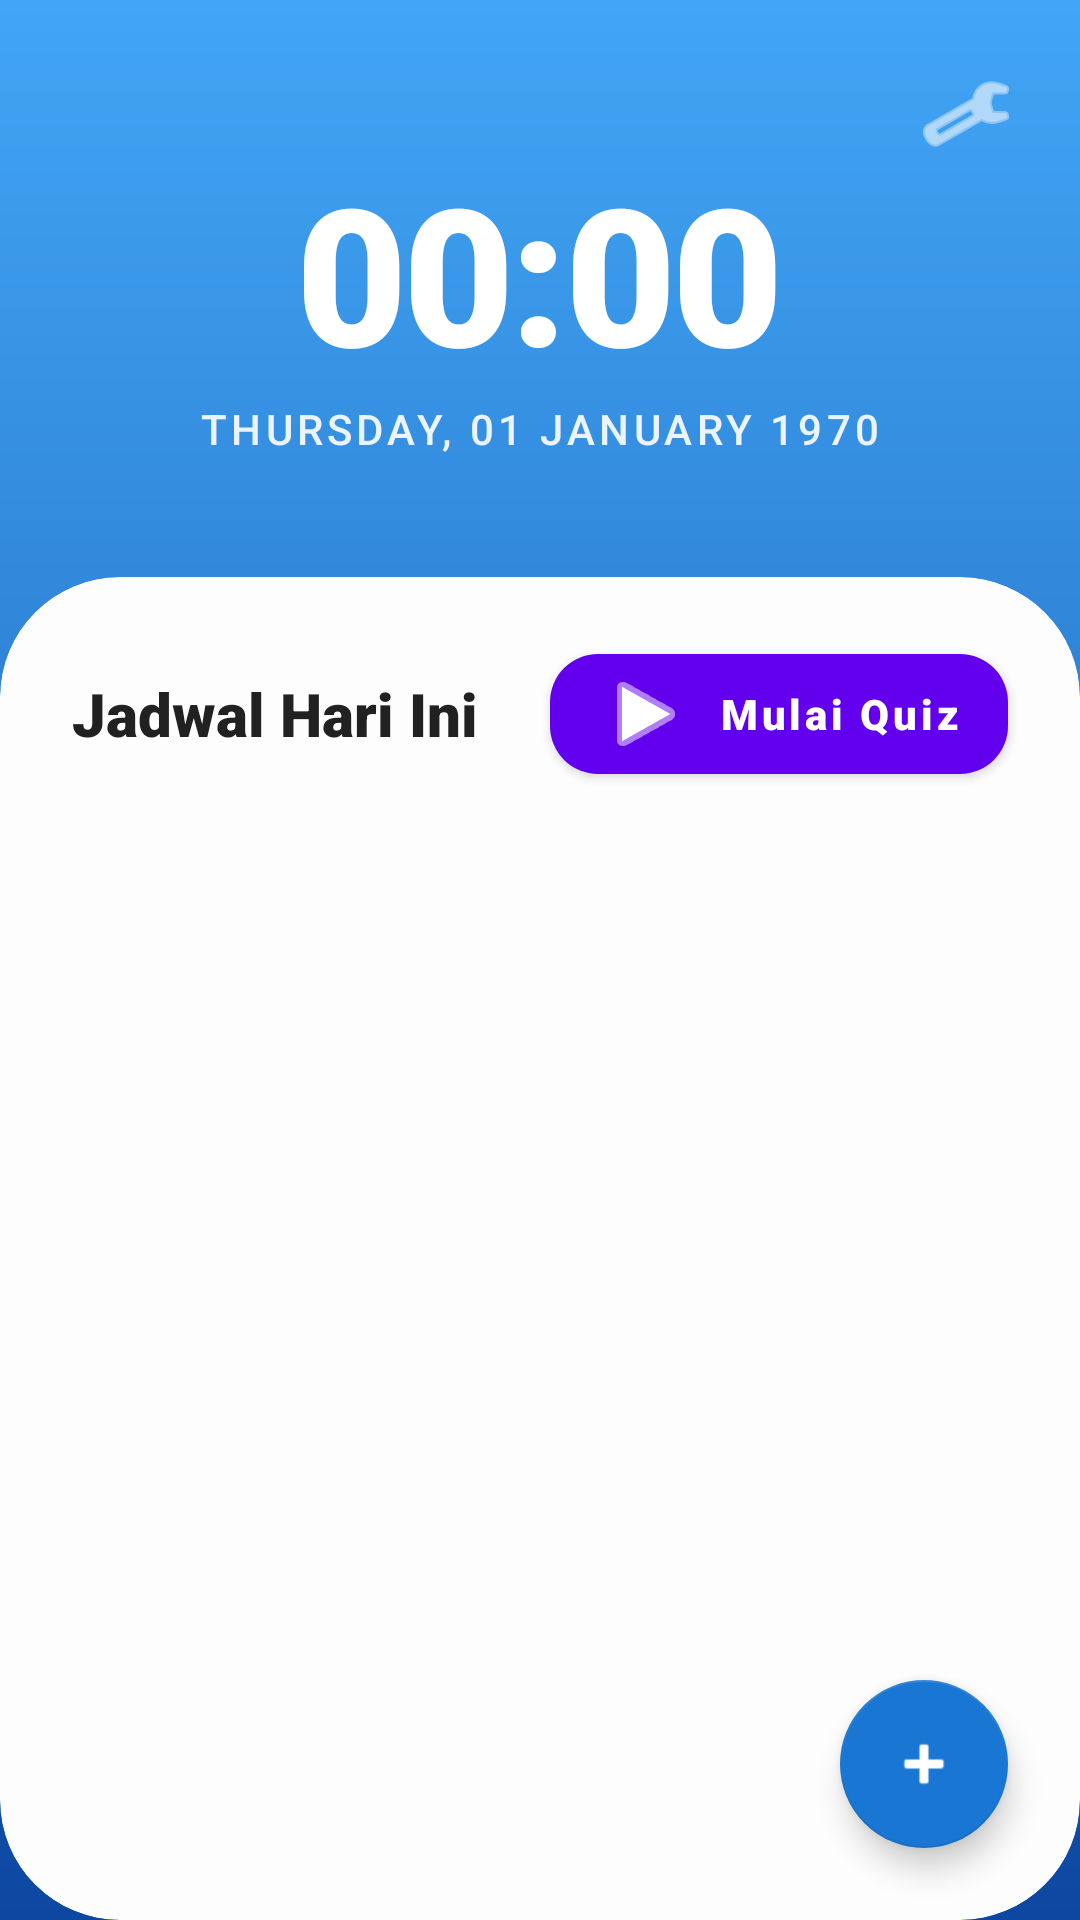

Icons on this 1080 x 1920 Android screen, each with the point to tap as (x=x, y=y):
manage: (x=966, y=114)
Tambah Jadwal: (x=924, y=1764)
